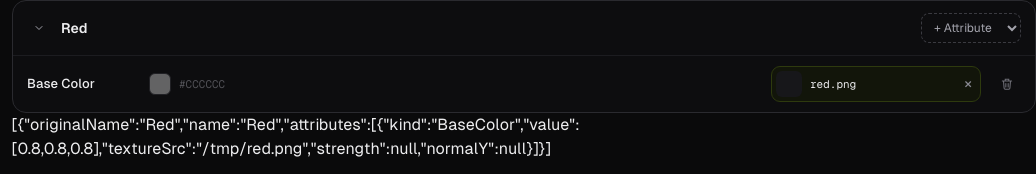
Test: double-click renames material, Enter commits, Esc reverts
This screenshot has width=1036, height=174.
Double-click the text "Red" at (74, 28), box [61, 18, 88, 38]
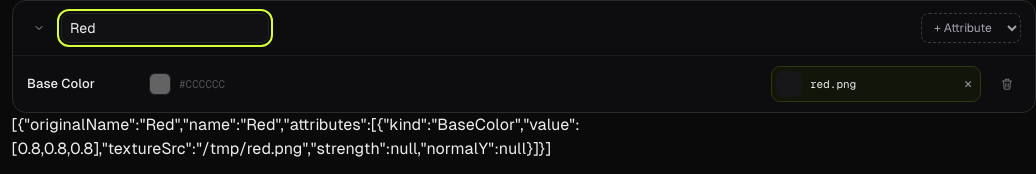
Replace the text in the field named "Material name" with "Seat" at (165, 28), box [61, 13, 269, 43]
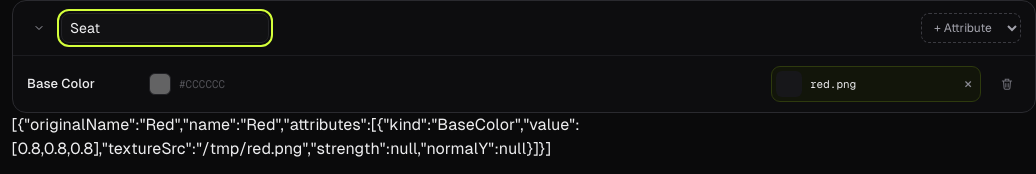
Press Enter in the field named "Material name", box [61, 13, 269, 43]
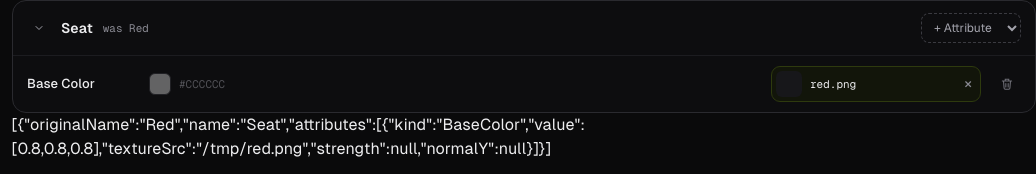
Now the text "Seat" is shown
Double-click the text "Seat" at (77, 28), box [61, 18, 93, 38]
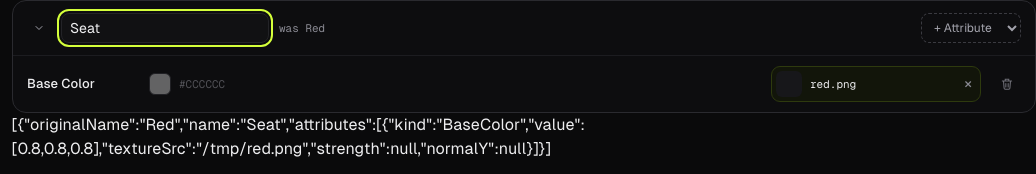
Replace the text in the field named "Material name" with "Nope" at (165, 28), box [61, 13, 269, 43]
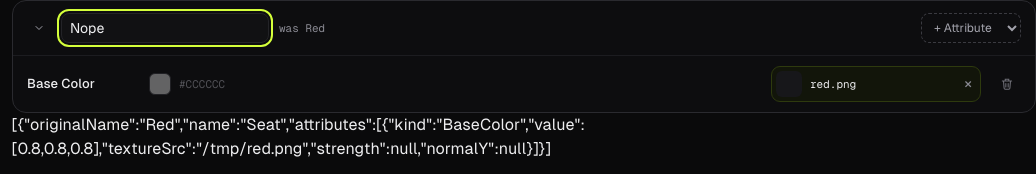
Press Escape in the field named "Material name", box [61, 13, 269, 43]
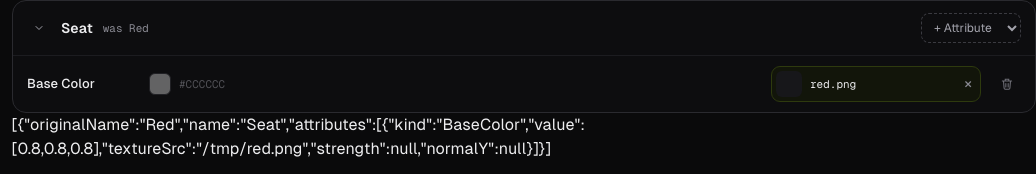
Expected: the text "Nope" is not shown
Now the text "Seat" is shown, box [61, 18, 93, 38]
